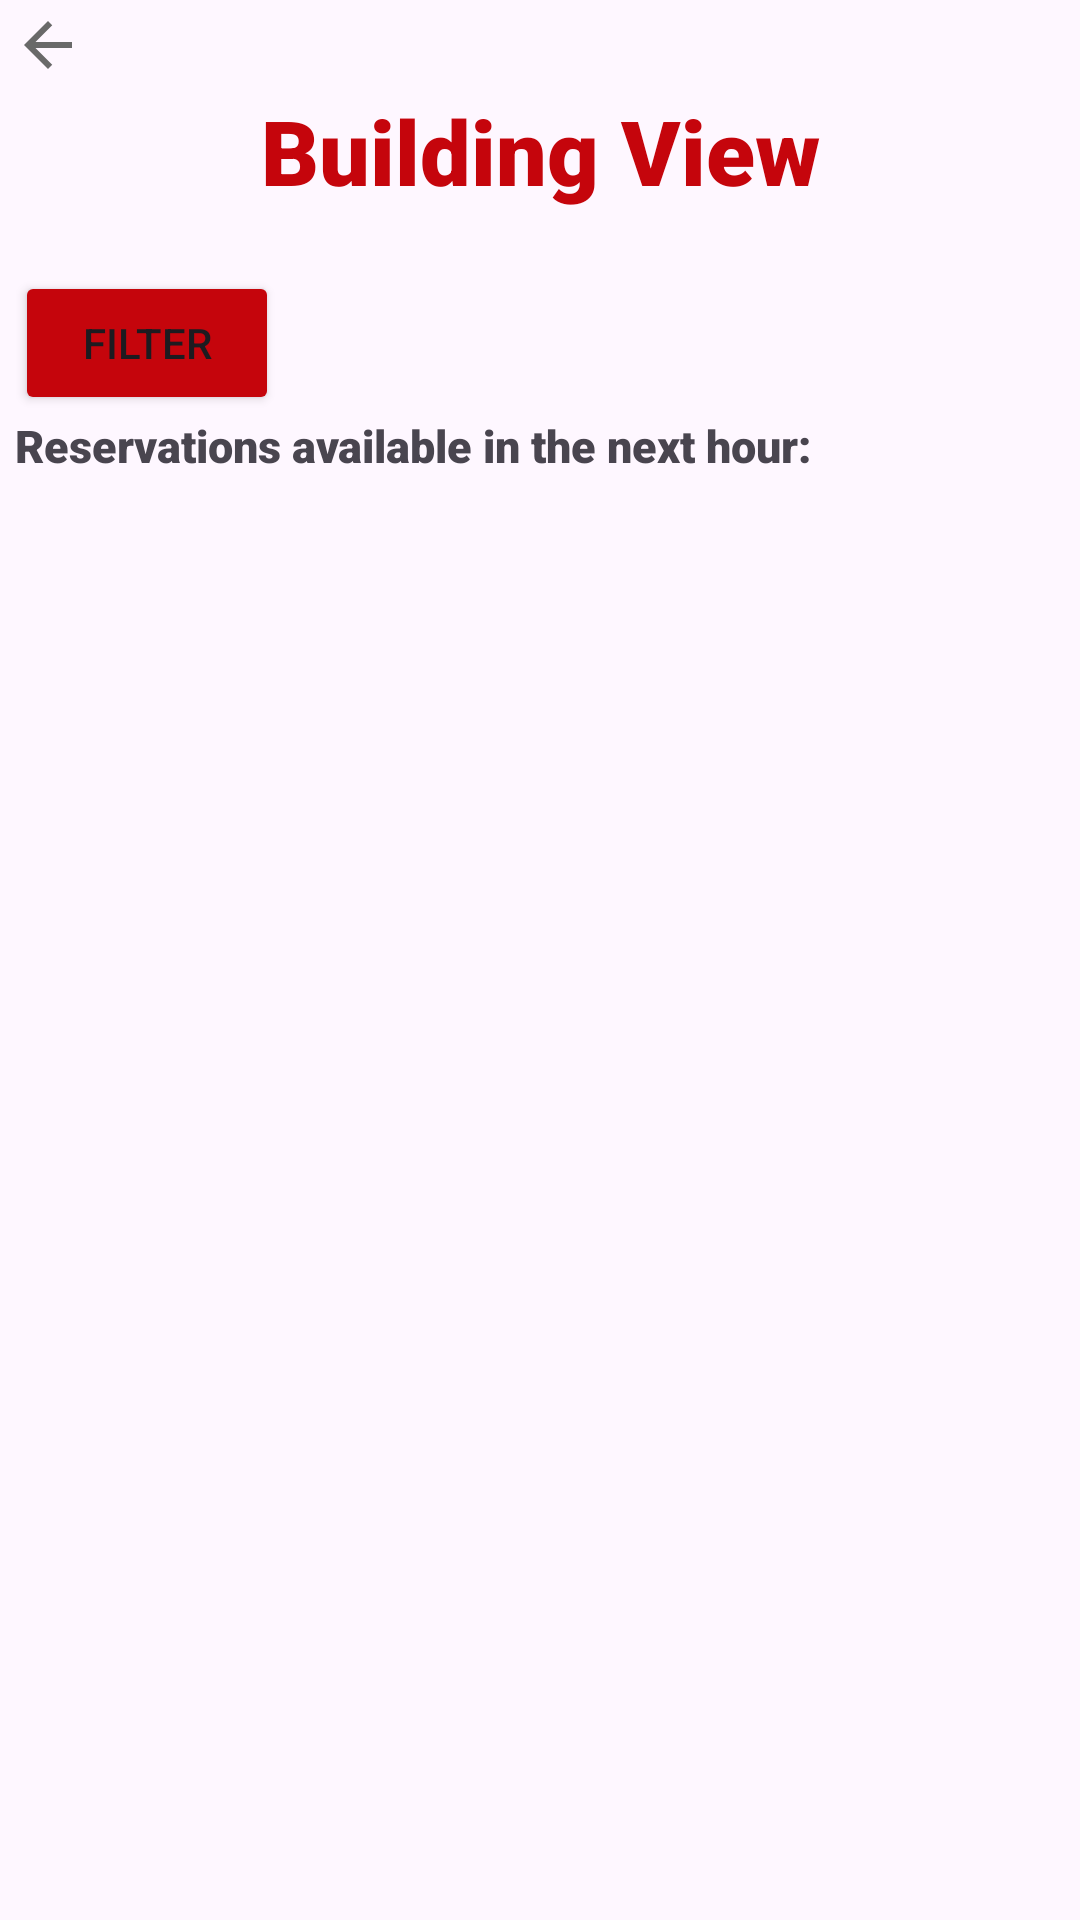

Screen size 1080 x 1920. Icon name, then its center in pixels as (x=x, y=y):
back arrow: (x=48, y=45)
